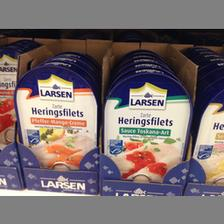Fisch: (104, 68, 192, 184), (13, 62, 99, 170)
